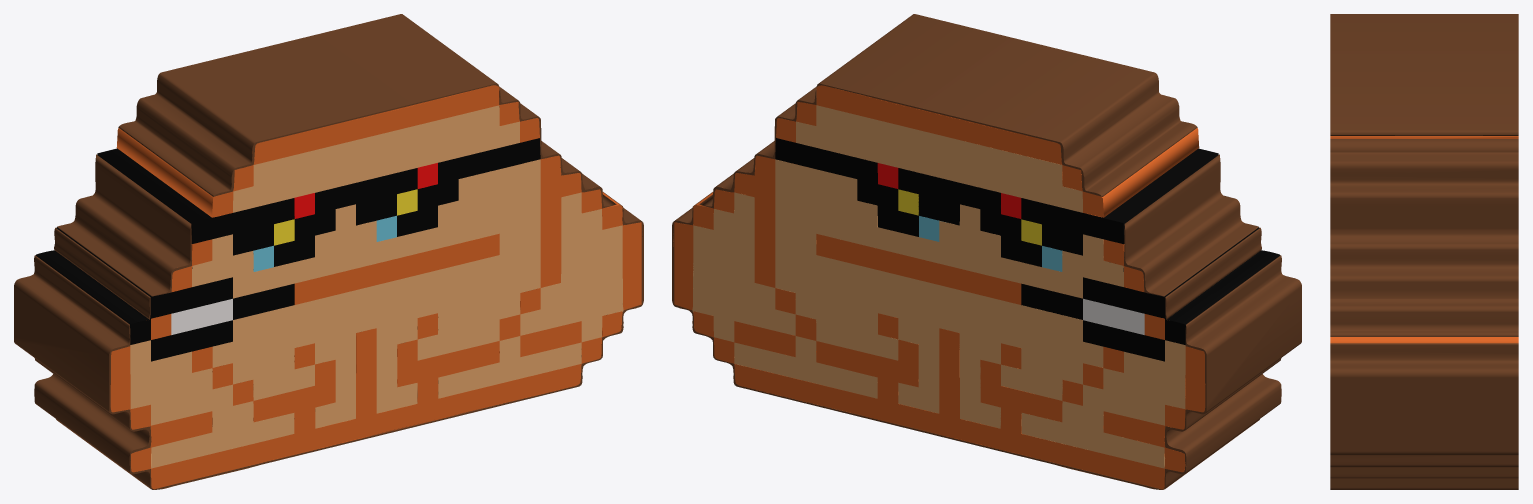
The model's file is Toadz_3043.glb.
The picture shows the model from 3 angles, left to right: view 1: azimuth 30°, elevation 25°; view 2: azimuth 150°, elevation 25°; view 3: azimuth 270°, elevation 25°; orthographic projection.
Visible parts, largest first — view 1: Curve; view 2: Curve; view 3: Curve.
Part boxes in pixels (x1,y1,x2,y2): Curve: [14, 14, 643, 489]; Curve: [672, 14, 1301, 489]; Curve: [1330, 14, 1518, 489].
Size of the model in its own units: 3.24 by 1.88 by 1.
